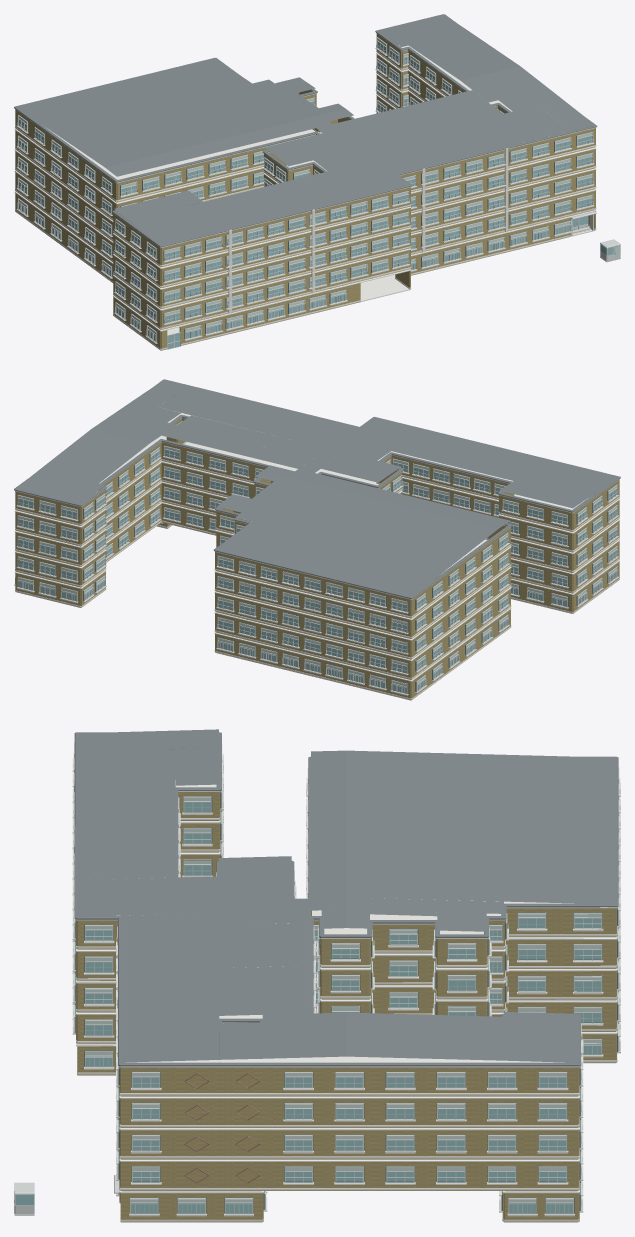
Rendered from school-exterior.glb.
3 renders of one model, top to bottom at view 1: azimuth 30°, elevation 25°; view 2: azimuth 150°, elevation 25°; view 3: azimuth 270°, elevation 25°, orthographic. The views are drawn at different scales.
Parts seen in each view (by area): view 1: school-exterior-slate roof, school-exterior-soft beige yellow brick, school-exterior-white facade bands, school-exterior-silver window frames and guards, school-exterior-opaque sea glass, school-exterior-sky reflected upper pane, exterior-ground-floor-soft beige yellow brick, exterior-ground-floor-white facade bands, school-exterior-recess shadow, exterior-ground-floor-silver window frames and guards, exterior-ground-floor-opaque sea glass, exterior-ground-floor-sky reflected upper pane (+1 smaller); view 2: school-exterior-slate roof, school-exterior-soft beige yellow brick, school-exterior-white facade bands, school-exterior-silver window frames and guards, school-exterior-opaque sea glass, exterior-ground-floor-soft beige yellow brick, school-exterior-sky reflected upper pane, school-exterior-recess shadow, exterior-ground-floor-white facade bands, exterior-ground-floor-silver window frames and guards, exterior-ground-floor-opaque sea glass, exterior-ground-floor-sky reflected upper pane (+1 smaller); view 3: school-exterior-slate roof, school-exterior-soft beige yellow brick, school-exterior-white facade bands, school-exterior-silver window frames and guards, school-exterior-opaque sea glass, school-exterior-sky reflected upper pane, school-exterior-recess shadow, exterior-ground-floor-soft beige yellow brick, exterior-ground-floor-white facade bands, exterior-ground-floor-silver window frames and guards, exterior-ground-floor-opaque sea glass, exterior-ground-floor-sky reflected upper pane (+1 smaller).
Boxes of the visible parts, x1,y1,x2,y2 form: school-exterior-slate roof: [14, 14, 597, 247]; school-exterior-soft beige yellow brick: [15, 34, 595, 329]; school-exterior-white facade bands: [14, 33, 596, 329]; school-exterior-silver window frames and guards: [17, 37, 620, 349]; school-exterior-opaque sea glass: [18, 42, 620, 348]; school-exterior-sky reflected upper pane: [18, 39, 619, 315]; exterior-ground-floor-soft beige yellow brick: [15, 193, 595, 350]; exterior-ground-floor-white facade bands: [14, 191, 596, 350]; school-exterior-recess shadow: [18, 37, 592, 323]; exterior-ground-floor-silver window frames and guards: [17, 198, 571, 342]; exterior-ground-floor-opaque sea glass: [19, 203, 570, 340]; exterior-ground-floor-sky reflected upper pane: [18, 200, 570, 333]; school-exterior-slate roof: [14, 379, 620, 598]; school-exterior-soft beige yellow brick: [15, 418, 619, 679]; school-exterior-white facade bands: [14, 411, 619, 679]; school-exterior-silver window frames and guards: [17, 421, 618, 673]; school-exterior-opaque sea glass: [18, 449, 616, 672]; exterior-ground-floor-soft beige yellow brick: [15, 523, 619, 700]; school-exterior-sky reflected upper pane: [18, 447, 616, 665]; school-exterior-recess shadow: [18, 420, 616, 673]; exterior-ground-floor-white facade bands: [14, 522, 619, 700]; exterior-ground-floor-silver window frames and guards: [15, 566, 618, 694]; exterior-ground-floor-opaque sea glass: [18, 571, 616, 693]; exterior-ground-floor-sky reflected upper pane: [18, 568, 616, 686]; school-exterior-slate roof: [74, 729, 618, 1066]; school-exterior-soft beige yellow brick: [76, 748, 616, 1190]; school-exterior-white facade bands: [72, 758, 620, 1195]; school-exterior-silver window frames and guards: [14, 742, 620, 1215]; school-exterior-opaque sea glass: [15, 802, 601, 1205]; school-exterior-sky reflected upper pane: [14, 797, 618, 1213]; school-exterior-recess shadow: [75, 791, 617, 1182]; exterior-ground-floor-soft beige yellow brick: [77, 1034, 616, 1221]; exterior-ground-floor-white facade bands: [72, 974, 620, 1222]; exterior-ground-floor-silver window frames and guards: [85, 1022, 620, 1214]; exterior-ground-floor-opaque sea glass: [85, 1044, 601, 1213]; exterior-ground-floor-sky reflected upper pane: [85, 1025, 618, 1202].
Bounding box in the file's own units: 82 × 18.97 × 62.87.
10 materials, 1 textured.
